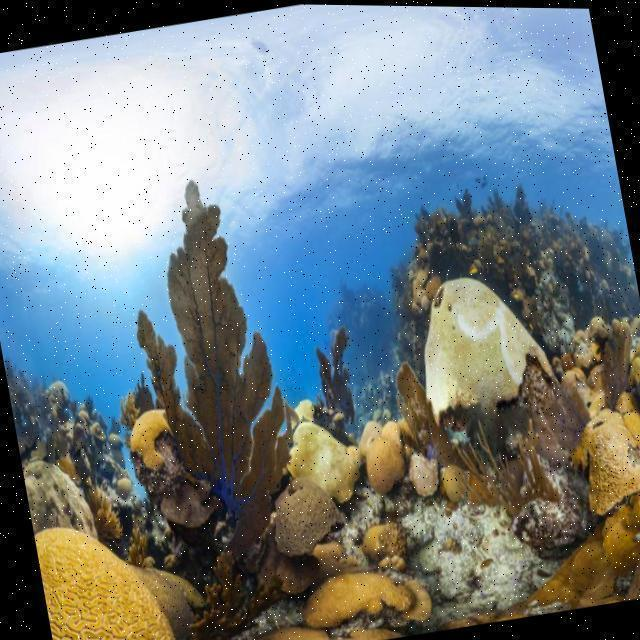Healthy Coral: (5, 259, 640, 640), (104, 158, 358, 559)
